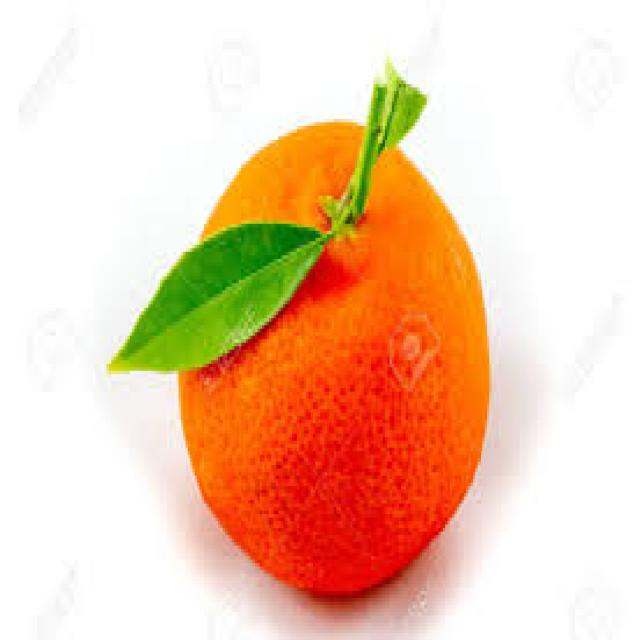organic waste: (176, 115, 489, 591), (104, 217, 327, 371), (369, 63, 422, 157)
